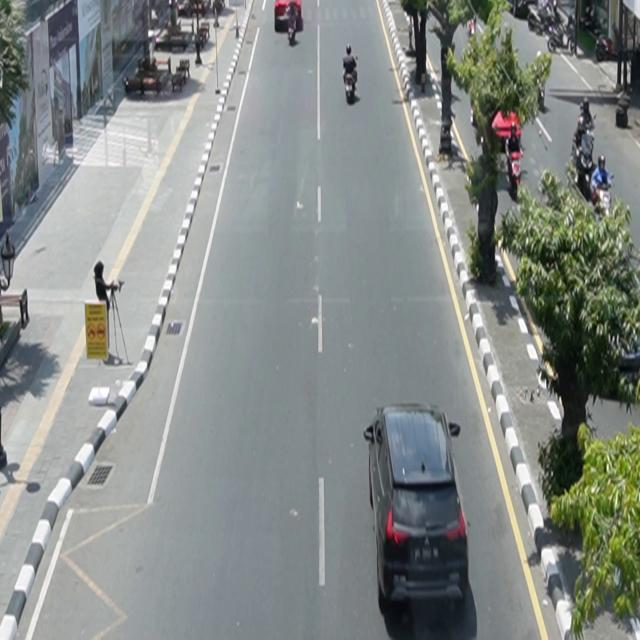car: (364, 403, 470, 617)
